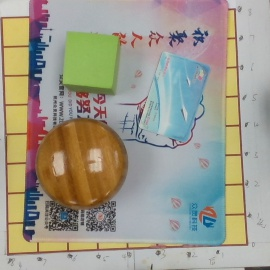card: (140, 51, 211, 141)
chess: (37, 119, 127, 209)
